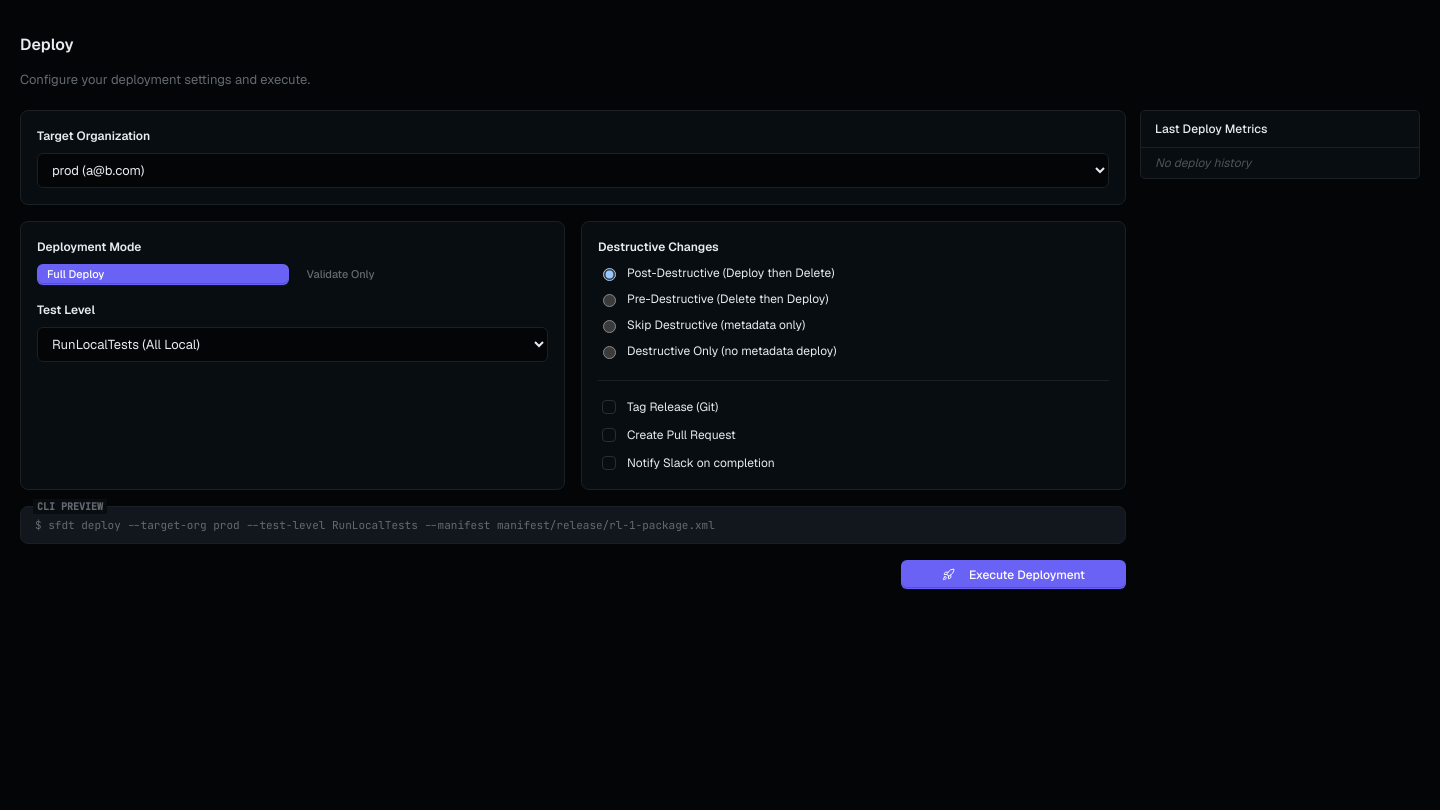
DeployStep validation banner › renders the no-job-id variant only after a successful run without an id
Click the button "Validate Only" at (422, 274), box [296,264,548,285]
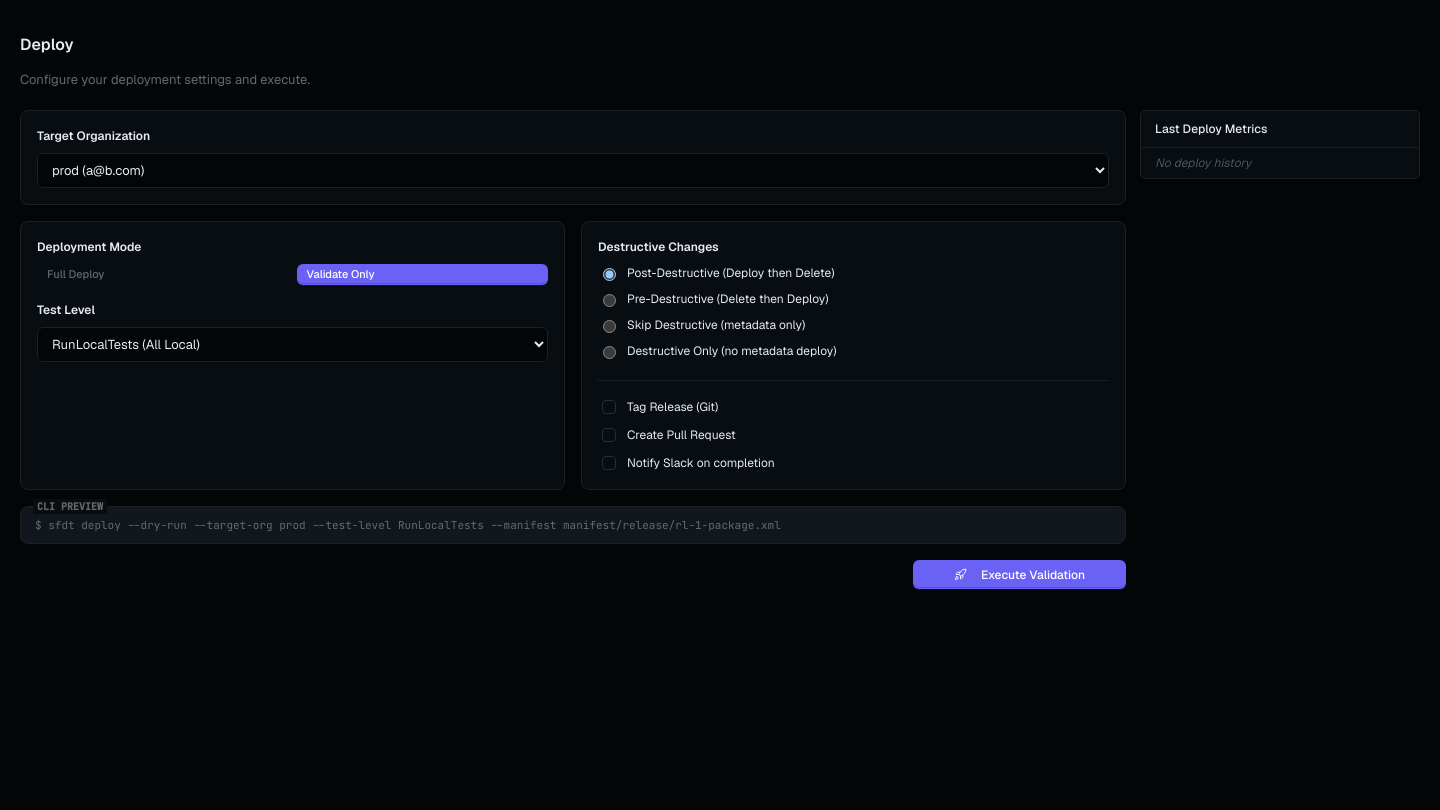
Click the button "Execute Validation" at (1020, 575), box [913,560,1126,589]
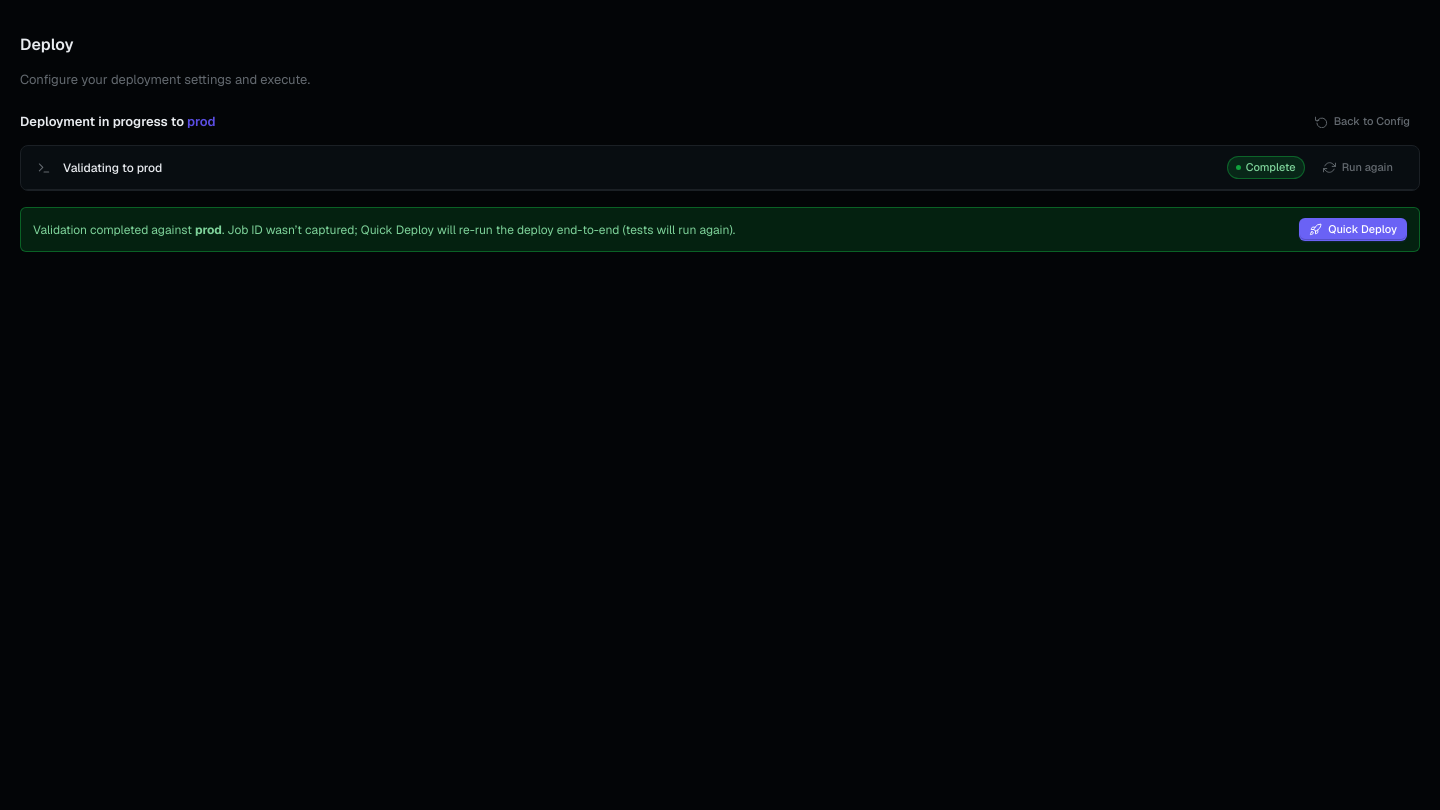
expect the text "Validation completed against" is shown: met, box [33,222,195,238]
expect the text "wasn’t captured" is shown: met, box [227,222,735,238]
